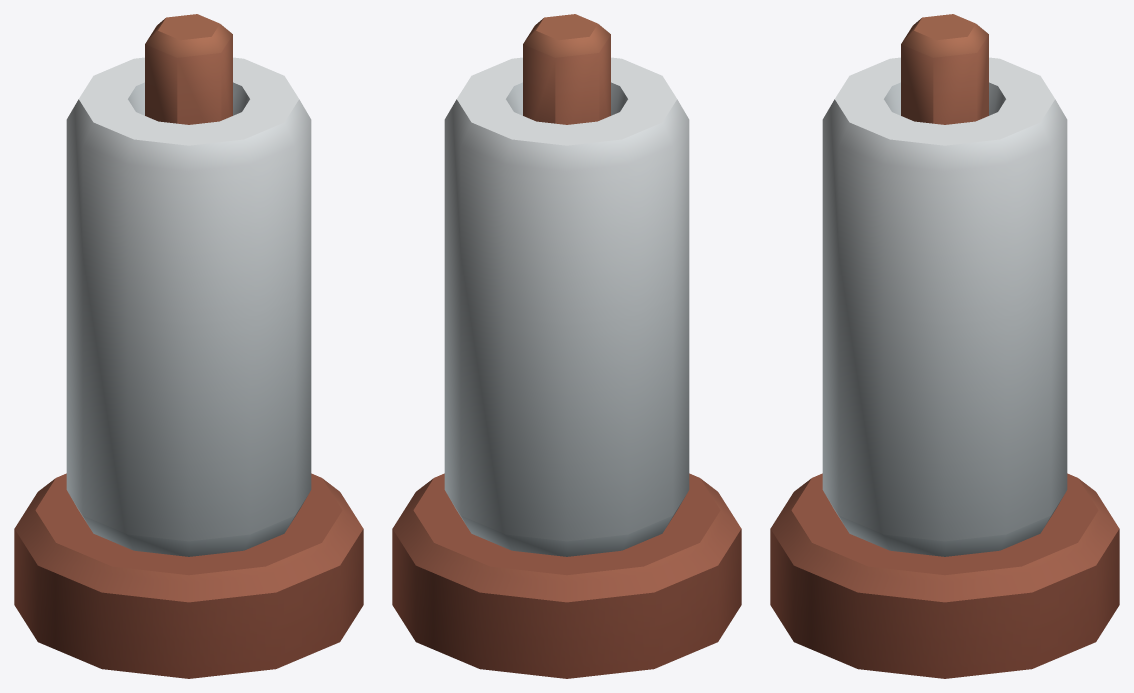
File: Paper Towel.glb
The picture shows the model from 3 angles, left to right: view 1: azimuth 30°, elevation 25°; view 2: azimuth 150°, elevation 25°; view 3: azimuth 270°, elevation 25°; orthographic projection.
Visible parts, largest first — view 1: papertowel; view 2: papertowel; view 3: papertowel.
Part boxes in pixels (box(x1,y1,x2,y2)): papertowel: box(14, 14, 363, 678); papertowel: box(392, 14, 741, 678); papertowel: box(770, 14, 1119, 678).
Bounding box in the file's own units: 0.5 × 0.9138 × 0.5.
1 material, 1 textured.
